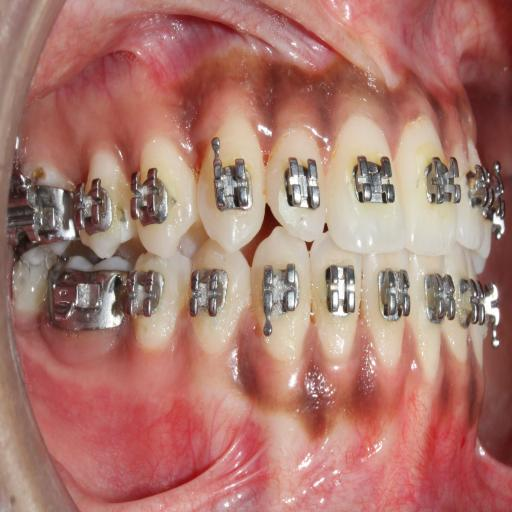correct_brace: (128, 136, 196, 254), (348, 144, 393, 219), (209, 159, 255, 213), (424, 146, 464, 205), (281, 158, 317, 212)
incorrect_brace: (262, 131, 323, 240), (132, 168, 168, 222)
